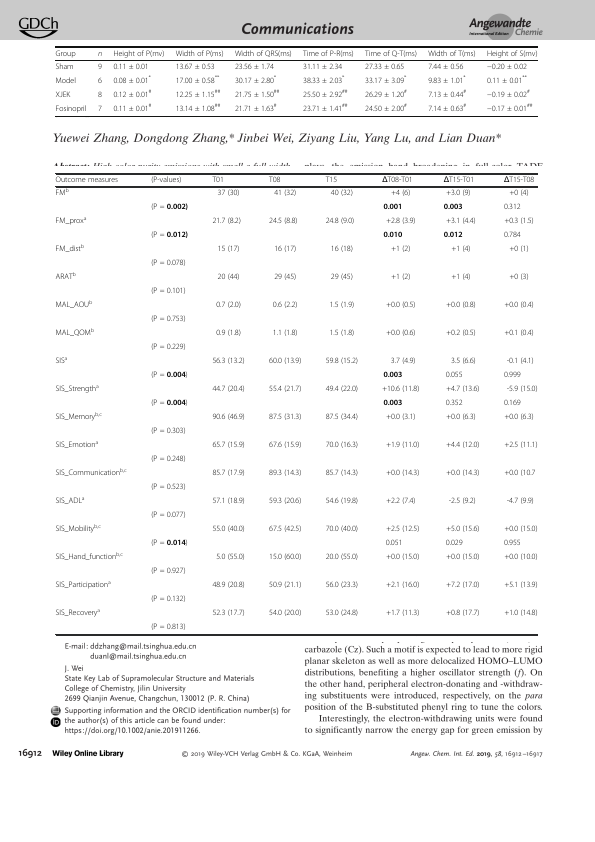borderless: (54, 171, 537, 634), (55, 45, 538, 116)
cell: (55, 467, 128, 478), (55, 551, 124, 562), (55, 579, 112, 590), (55, 176, 119, 185), (234, 49, 293, 58), (55, 411, 103, 422), (486, 102, 533, 113), (55, 523, 102, 534), (175, 88, 221, 99), (234, 88, 280, 99), (302, 88, 348, 99), (175, 102, 221, 113), (302, 102, 348, 113), (55, 607, 101, 618), (175, 74, 220, 85), (486, 88, 531, 99), (55, 383, 100, 394), (364, 49, 418, 58), (364, 88, 408, 99), (234, 102, 278, 113), (364, 102, 408, 113), (55, 439, 99, 450), (112, 49, 165, 58), (302, 49, 355, 58), (234, 74, 277, 85), (302, 74, 345, 85), (364, 74, 407, 85), (486, 49, 538, 58), (486, 74, 528, 85), (427, 49, 477, 58), (175, 49, 224, 58), (112, 74, 152, 85), (427, 74, 467, 85), (112, 88, 152, 99), (427, 88, 467, 99), (112, 102, 152, 113), (427, 102, 467, 113), (55, 327, 95, 338), (55, 299, 93, 310), (486, 62, 528, 71), (175, 62, 216, 71), (234, 62, 275, 71), (302, 62, 343, 71), (364, 62, 405, 71), (55, 215, 87, 226), (150, 203, 189, 212), (150, 231, 189, 240), (150, 371, 189, 380), (381, 385, 420, 394), (150, 399, 189, 408), (150, 539, 189, 548), (112, 62, 150, 71), (427, 62, 464, 71), (55, 243, 85, 254), (55, 495, 85, 506), (150, 259, 186, 268), (150, 287, 186, 296), (150, 315, 186, 324), (150, 343, 186, 352), (150, 427, 186, 436), (150, 455, 186, 464), (150, 483, 186, 492), (150, 511, 186, 520), (150, 567, 186, 576), (150, 595, 186, 604), (150, 623, 186, 632), (211, 357, 246, 366), (211, 385, 246, 394), (445, 385, 480, 394), (211, 413, 246, 422), (211, 441, 246, 450), (385, 441, 420, 450), (445, 441, 480, 450), (503, 441, 538, 450), (211, 469, 246, 478), (385, 469, 420, 478), (445, 469, 480, 478), (211, 497, 246, 506), (211, 525, 246, 534), (385, 525, 420, 534), (445, 525, 480, 534), (503, 525, 538, 534), (385, 553, 420, 562), (445, 553, 480, 562), (503, 553, 538, 562), (211, 581, 246, 590), (385, 581, 420, 590), (445, 581, 480, 590), (503, 581, 538, 590), (211, 609, 246, 618), (385, 609, 420, 618), (445, 609, 480, 618), (503, 609, 538, 618), (268, 357, 302, 366), (325, 357, 359, 366), (268, 385, 302, 394), (325, 385, 359, 394), (268, 413, 302, 422), (325, 413, 359, 422), (268, 441, 302, 450), (325, 441, 359, 450), (268, 469, 302, 478), (325, 469, 359, 478), (268, 497, 302, 506), (325, 497, 359, 506), (268, 525, 302, 534), (325, 525, 359, 534), (268, 553, 302, 562), (325, 553, 359, 562), (268, 581, 302, 590), (325, 581, 359, 590), (268, 609, 302, 618), (325, 609, 359, 618), (381, 176, 414, 185), (503, 469, 536, 478), (55, 104, 87, 113), (150, 176, 182, 185), (443, 176, 475, 185), (503, 176, 535, 185), (445, 217, 477, 226), (503, 217, 535, 226), (445, 301, 477, 310), (503, 301, 535, 310), (445, 329, 477, 338), (503, 329, 535, 338), (506, 385, 538, 394), (445, 413, 477, 422), (503, 413, 535, 422), (211, 217, 242, 226), (385, 217, 416, 226), (385, 301, 416, 310), (385, 329, 416, 338), (385, 413, 416, 422), (385, 497, 416, 506), (215, 553, 246, 562), (268, 217, 298, 226), (325, 217, 355, 226), (506, 357, 535, 366), (448, 497, 477, 506), (506, 497, 535, 506), (215, 301, 242, 310), (328, 301, 355, 310), (215, 329, 242, 338), (328, 329, 355, 338), (450, 357, 477, 366), (55, 271, 77, 282), (445, 189, 471, 198), (272, 301, 298, 310), (272, 329, 298, 338), (390, 357, 416, 366), (273, 189, 297, 198), (330, 189, 354, 198), (273, 245, 297, 254), (330, 245, 354, 254), (273, 273, 297, 282), (330, 273, 354, 282), (217, 189, 240, 198), (217, 245, 240, 254), (217, 273, 240, 282), (55, 76, 77, 85), (55, 49, 76, 58), (390, 189, 411, 198), (508, 189, 529, 198), (390, 245, 411, 254), (450, 245, 471, 254), (508, 245, 529, 254), (390, 273, 411, 282), (450, 273, 471, 282), (508, 273, 529, 282), (55, 62, 74, 71), (382, 203, 403, 211), (382, 231, 403, 239), (382, 371, 403, 379), (382, 399, 403, 407), (55, 187, 70, 198), (503, 203, 521, 212), (503, 231, 521, 240), (445, 371, 463, 380), (503, 371, 521, 380), (445, 399, 463, 408), (503, 399, 521, 408), (385, 539, 403, 548), (445, 539, 463, 548), (503, 539, 521, 548), (443, 203, 463, 211), (443, 231, 463, 239), (55, 90, 71, 99), (55, 355, 68, 366), (211, 176, 225, 185), (268, 176, 281, 185), (325, 176, 338, 185), (97, 62, 103, 71), (97, 76, 103, 85), (97, 90, 103, 99), (97, 104, 103, 113), (97, 51, 103, 57)
